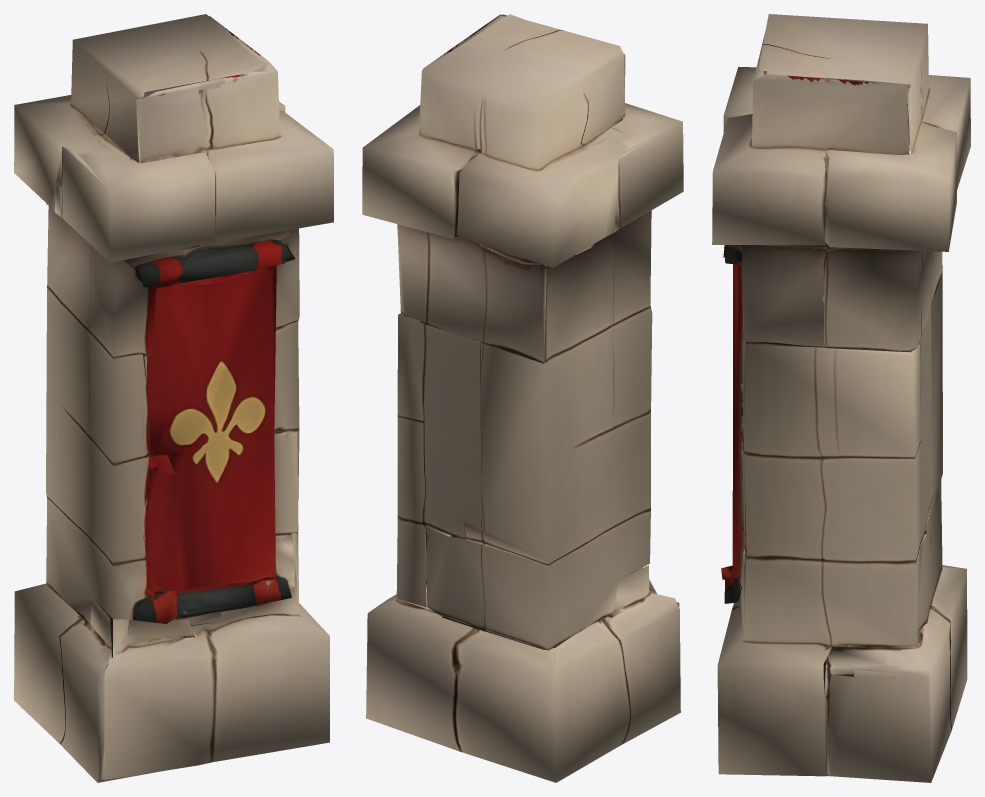
The picture shows the model from 3 angles, left to right: view 1: azimuth 30°, elevation 25°; view 2: azimuth 150°, elevation 25°; view 3: azimuth 270°, elevation 25°; orthographic projection. The views are drawn at different scales.
Parts seen in each view (by area): view 1: quad; view 2: quad; view 3: quad.
Part boxes in pixels (<box>): quad: <box>14,14,333,782</box>; quad: <box>362,14,683,782</box>; quad: <box>712,14,970,782</box>.
Bounding box in the file's own units: 109 × 300 × 103.
Materials: 1 (1 with a texture image).
